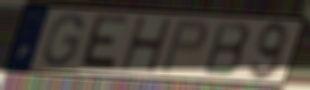9: (248, 20, 290, 83)
B: (200, 20, 253, 78)
E: (76, 13, 132, 73)
G: (41, 12, 86, 70)
H: (119, 16, 175, 74)
P: (159, 18, 211, 75)
